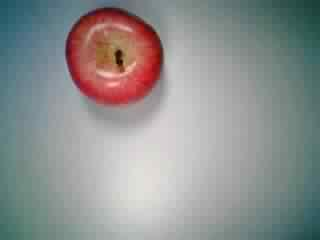apple: (64, 7, 168, 108)
